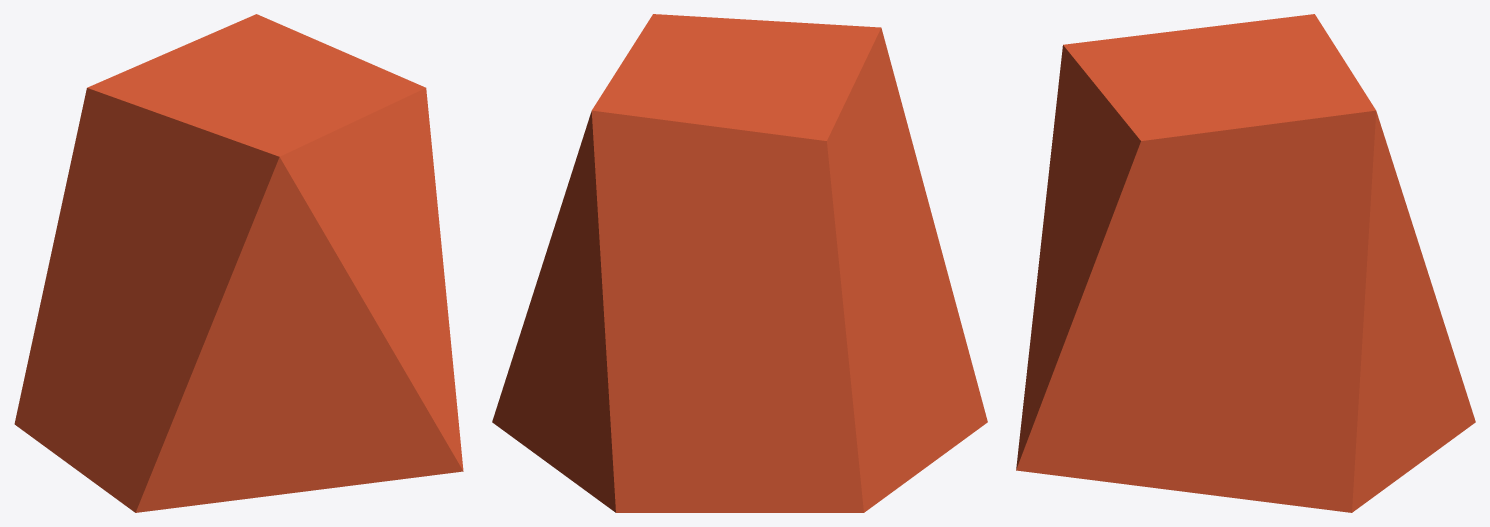
The model's file is Mahogany Stump.fbx.
The picture shows the model from 3 angles, left to right: view 1: azimuth 30°, elevation 25°; view 2: azimuth 150°, elevation 25°; view 3: azimuth 270°, elevation 25°; orthographic projection. The views are drawn at different scales.
Parts seen in each view (by area): view 1: Mahogany; view 2: Mahogany; view 3: Mahogany.
Boxes of the visible parts, <box> form: Mahogany: <box>14,14,463,512</box>; Mahogany: <box>492,14,987,512</box>; Mahogany: <box>1016,14,1475,512</box>.
Size of the model in its own units: 364 by 390 by 326.
